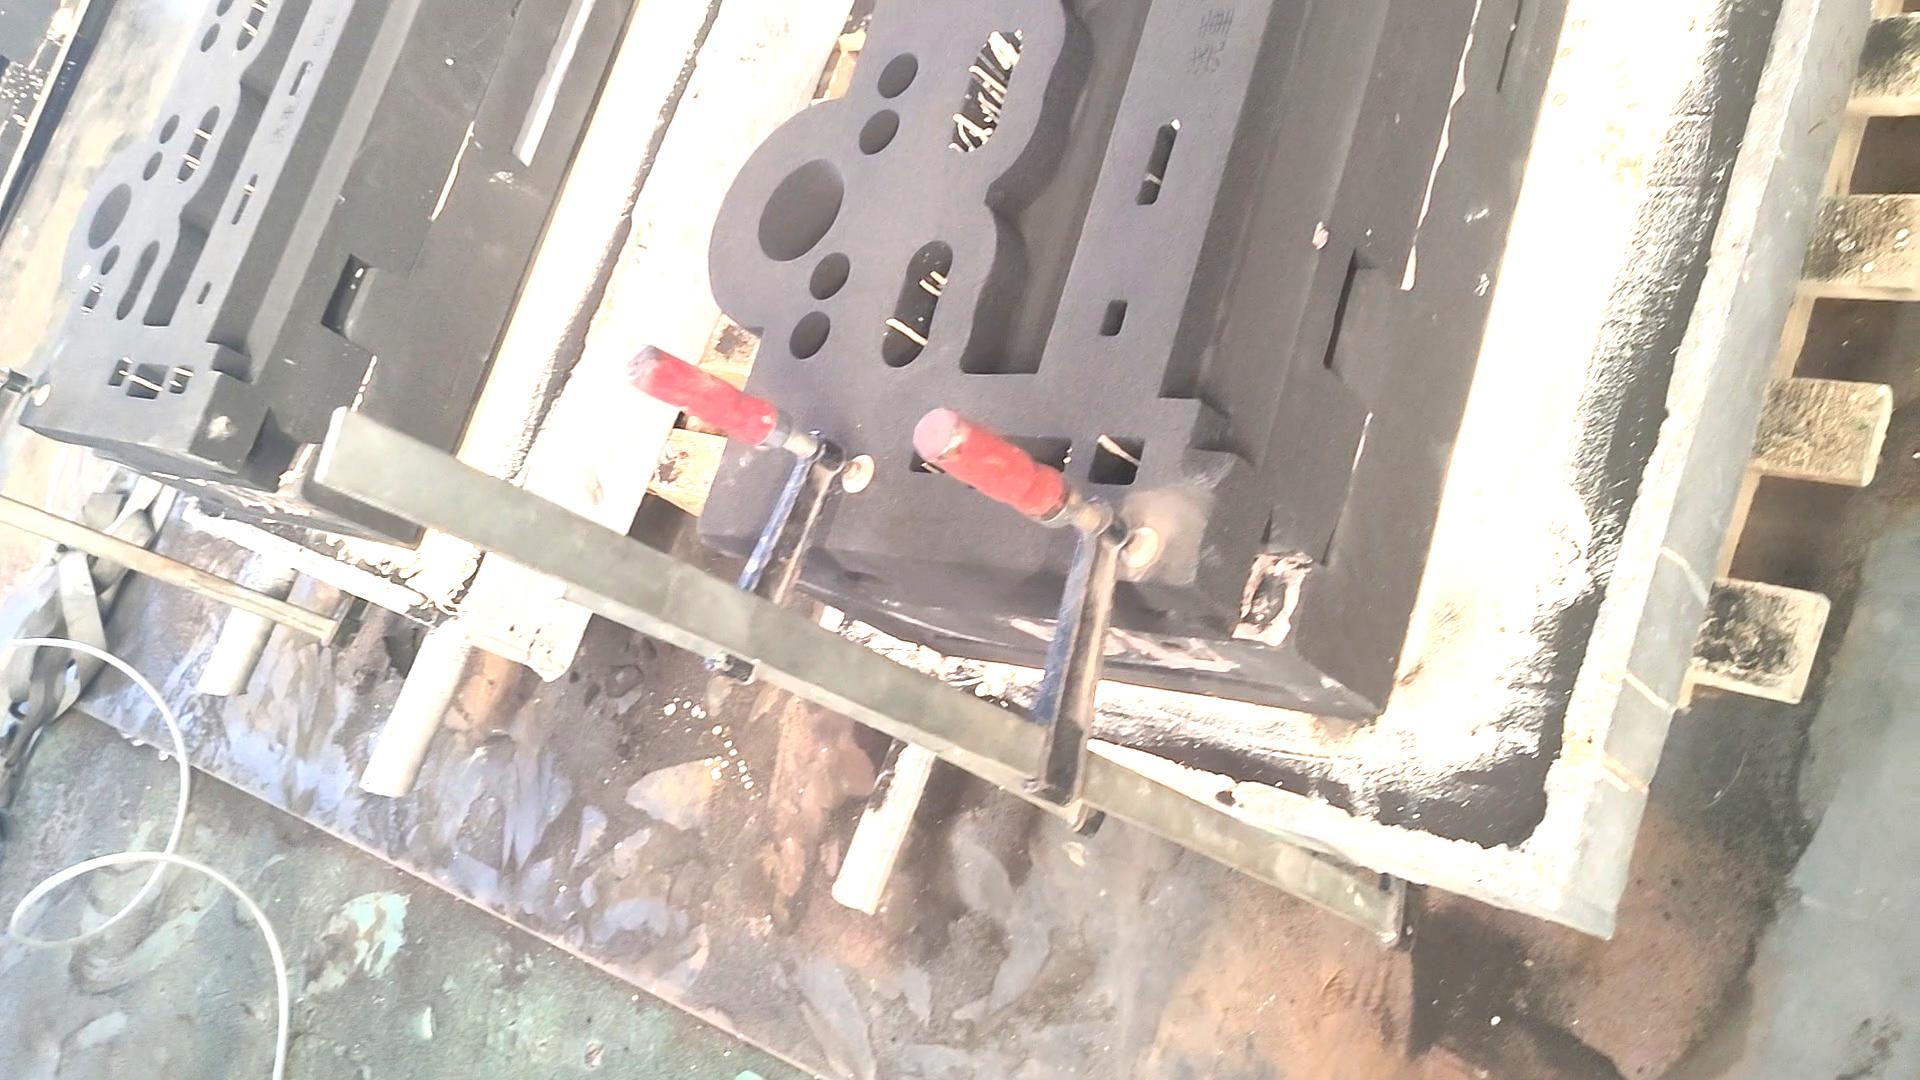pouring hole: (757, 156, 845, 262), (87, 181, 133, 248)
